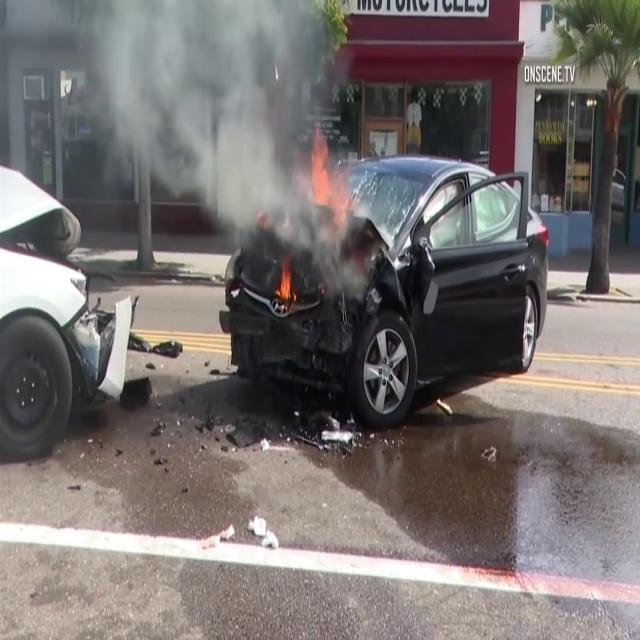Fire: (308, 130, 345, 236)
Smoke: (0, 0, 362, 300)
